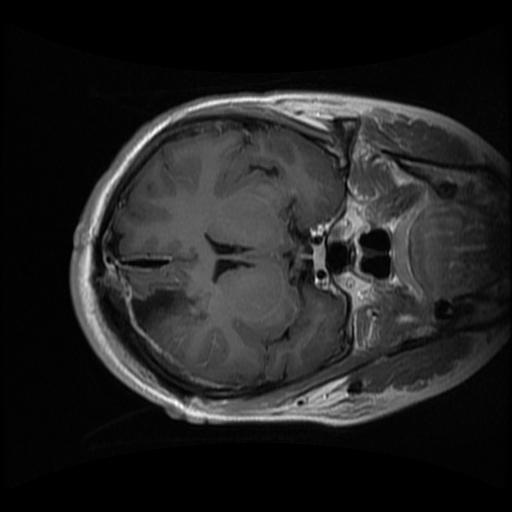glioma: (126, 277, 196, 331)
